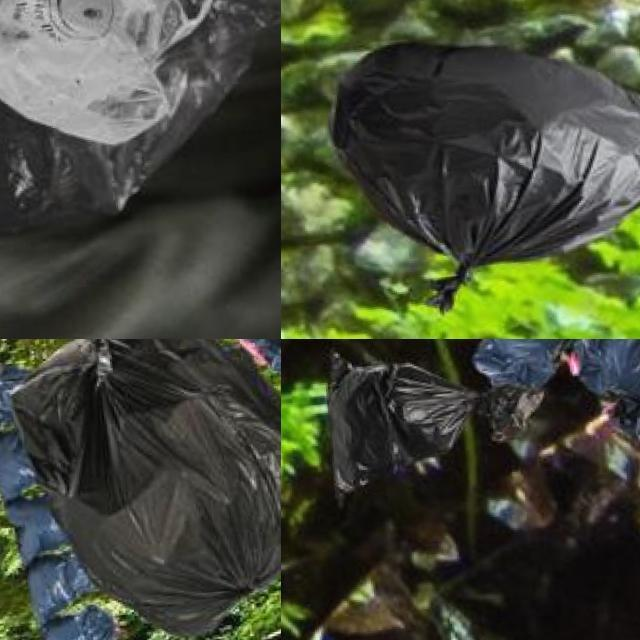waste: (325, 18, 640, 320), (15, 339, 281, 637), (0, 0, 281, 233), (0, 0, 239, 160), (316, 339, 549, 492), (0, 425, 62, 501), (561, 339, 640, 397), (9, 500, 85, 553), (27, 556, 92, 610), (0, 361, 46, 427), (42, 612, 126, 640)
